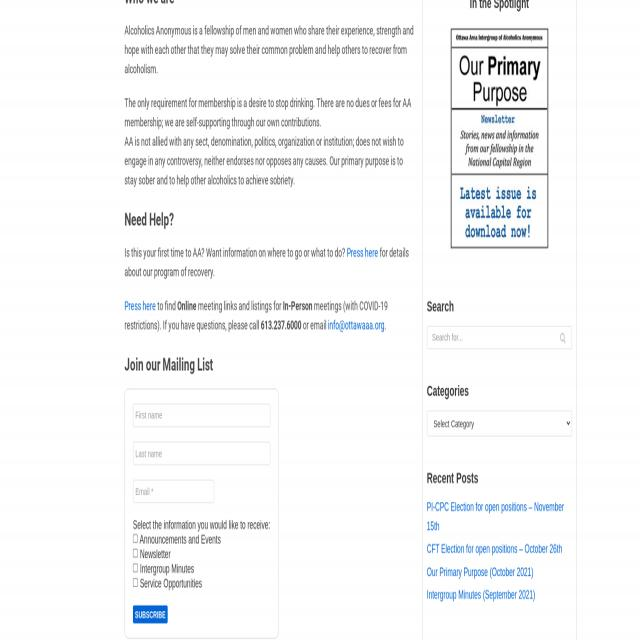button: (451, 29, 548, 246), (133, 606, 167, 624), (560, 332, 566, 343)
field: (428, 410, 572, 438), (428, 325, 572, 350), (133, 441, 270, 465), (133, 404, 270, 427), (133, 480, 214, 503), (133, 534, 138, 544), (133, 549, 138, 559), (133, 564, 138, 574), (133, 578, 138, 588)
